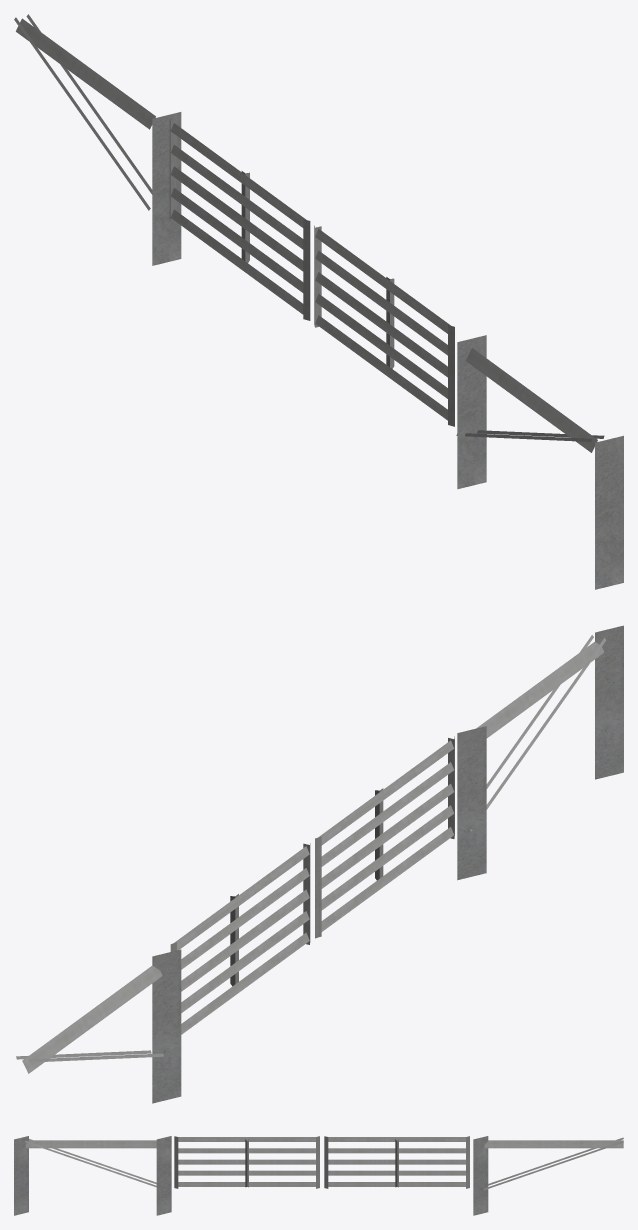
File: farm-fence-gate-cbj_LOD01.gltf
3 views of the same model, one above another, from view 1: azimuth 30°, elevation 25°; view 2: azimuth 150°, elevation 25°; view 3: azimuth 270°, elevation 25° (orthographic). The views are drawn at different scales.
Visible parts, largest first — view 1: Cube.001; view 2: Cube.001; view 3: Cube.001.
Boxes of the visible parts, box(x1,y1,x2,y2) form: Cube.001: box(14, 14, 623, 589); Cube.001: box(16, 625, 623, 1103); Cube.001: box(14, 1136, 623, 1215).
Size of what is drawn, in the model's own units: 0.3764 by 1.82 by 13.14.
